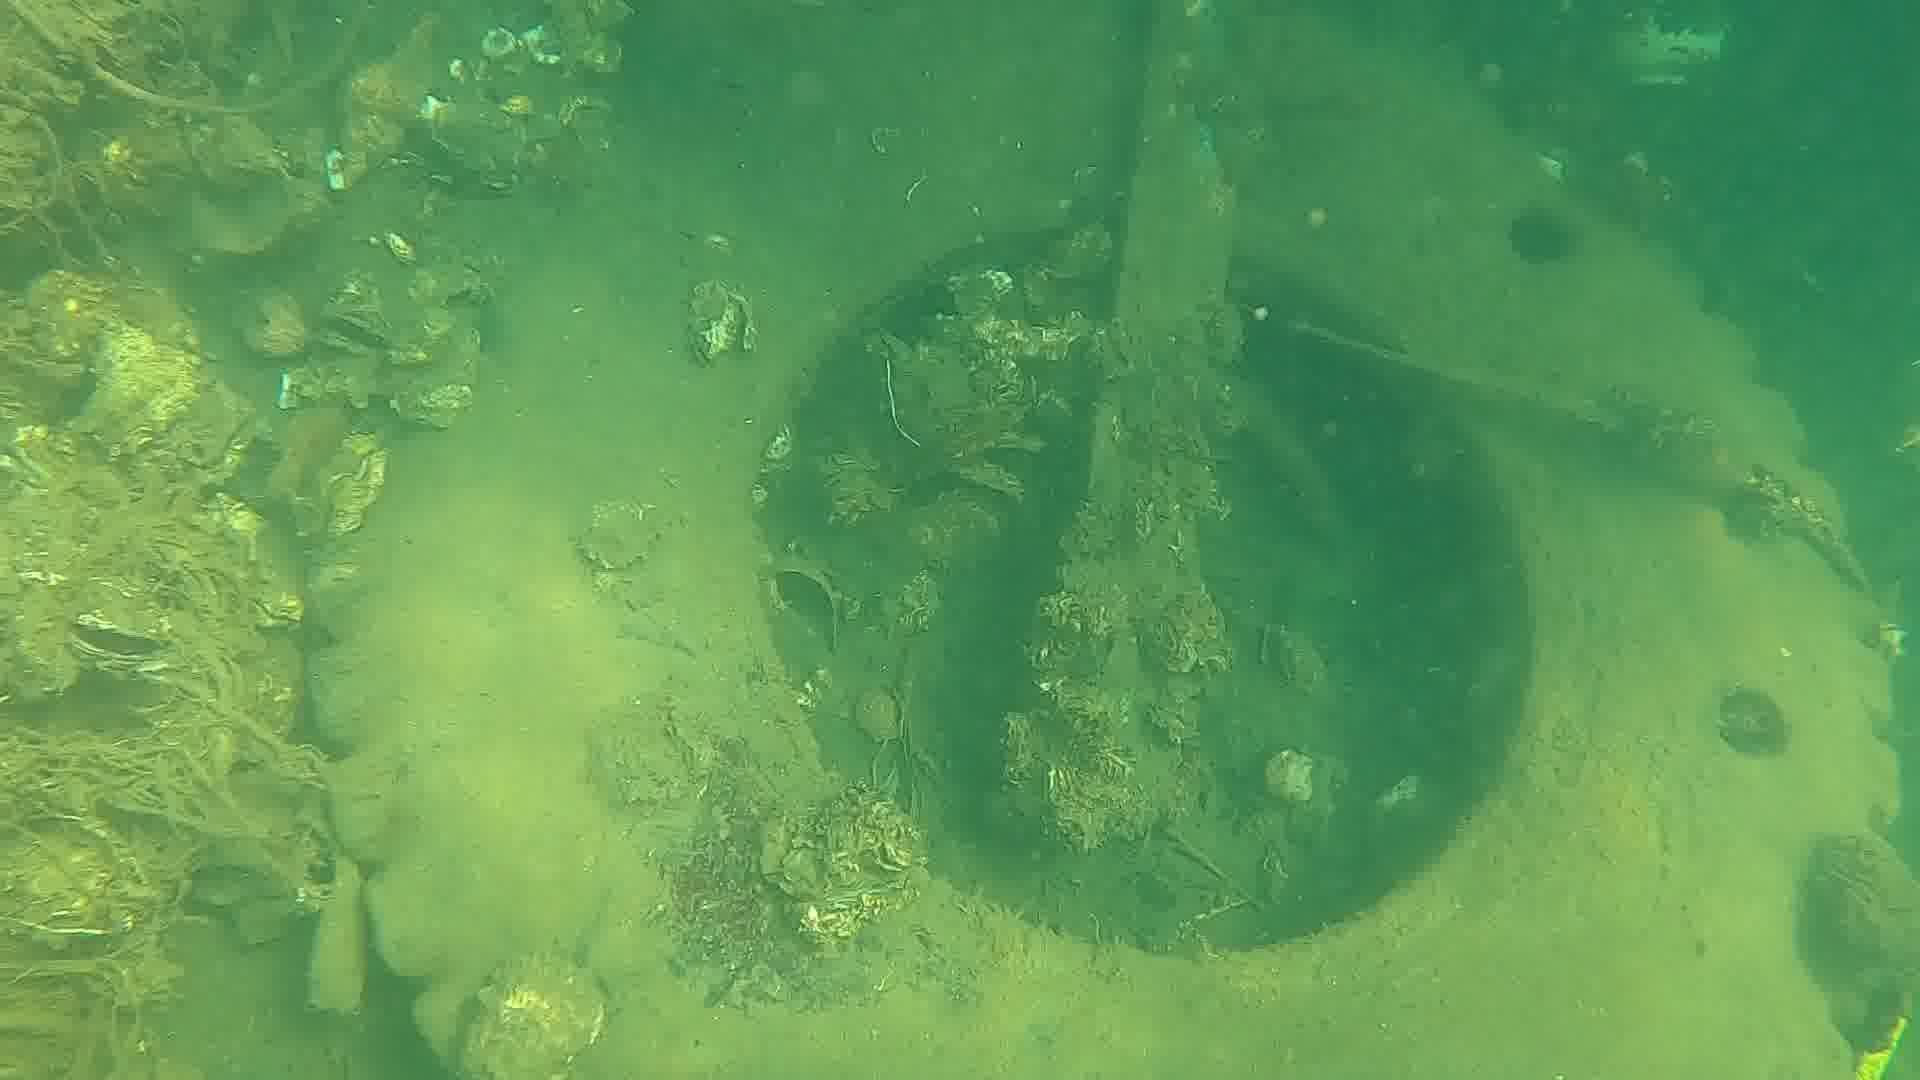tire: (307, 0, 1895, 1080)
